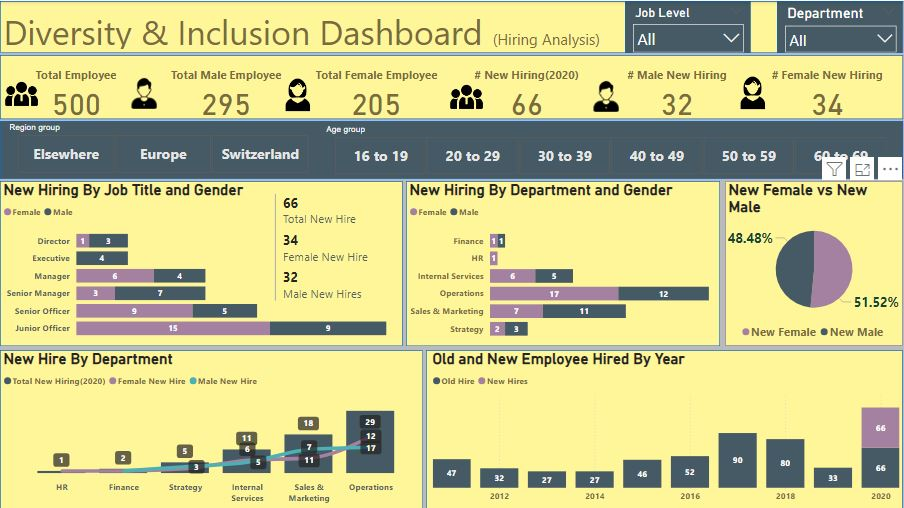

This screenshot's page, from the dashboard's own definition file:
{"tool":"powerbi","page":{"name":"Hiring","canvas":[1280,720],"ordinal":0},"visuals":[{"type":"shape","box":[1027.9,255.6,252.1,234.2],"z":0},{"type":"shape","box":[575.6,255.6,445.1,234.2],"z":1000},{"type":"shape","box":[604.2,495.2,675.8,225.3],"z":2000},{"type":"shape","box":[0,495.2,599.3,225.5],"z":3000},{"type":"shape","box":[0,255.4,570.8,234],"z":4000},{"type":"shape","box":[0,169.8,1280,82.2],"z":5000},{"type":"shape","box":[0,76.9,1280,91.2],"z":6000},{"type":"shape","box":[0,0,1280,73.3],"z":7000},{"type":"barChart","title":"New Hiring By Job Title and Gender","fields":{"Y":["All Measures.# New Hires"],"Category":["Pharma Group AG.Job Level after FY20 promotions"],"Series":["Pharma Group AG.Gender"]},"box":[0,255.4,570.8,234],"z":8000},{"type":"barChart","title":"New Hiring By Department and Gender","fields":{"Category":["Pharma Group AG.Department @01.07.2020"],"Series":["Pharma Group AG.Gender"],"Y":["All Measures.# New Hires"]},"box":[576,254.9,445,234.7],"z":9000},{"type":"lineStackedColumnComboChart","title":"Old and New Employee Hired By Year","fields":{"Category":["Pharma Group AG.Last hire date.Variation.Date Hierarchy.Year"],"Y":["All Measures.Total Employee","All Measures.# New Hires"]},"box":[607.8,495.2,672.2,225.3],"z":11000},{"type":"cardVisual","fields":{"Data":["All Measures.Total Employee","All Measures.Total Male Employee","All Measures.Total Female Employee","All Measures.# New Hires","All Measures.# Male New Hires","All Measures.# Female New Hires"]},"box":[0,77.1,1280,94.2],"z":12000},{"type":"lineStackedColumnComboChart","title":"New Hire By Department","fields":{"Y":["All Measures.# New Hires(20)"],"Category":["Pharma Group AG.Department @01.07.2020"],"Y2":["All Measures.# Female New Hires","All Measures.# Male New Hires"]},"box":[0,495.2,600.8,225.5],"z":13000},{"type":"textbox","box":[0,0,1280,73.3],"z":14000},{"type":"multiRowCard","fields":{"Values":["All Measures.# New Hires(20)","All Measures.# Female New Hires","All Measures.# Male New Hires"]},"box":[384.6,268.3,152.1,167.9],"z":15000},{"type":"slicer","fields":{"Values":["Pharma Group AG.Broad region group: nationality 1"]},"box":[0,167.4,460.9,82.8],"z":16000},{"type":"slicer","fields":{"Values":["Pharma Group AG.Age group"]},"box":[449.3,169.9,830.9,82],"z":18000},{"type":"pieChart","title":"New Female vs New Male","fields":{"Y":["All Measures.# Female New Hires","All Measures.# Male New Hires"]},"box":[1027.4,255.4,252.6,234],"z":19000},{"type":"image","box":[0,102.7,61.4,58.5],"z":20000},{"type":"image","box":[176.9,102.7,54.2,57.1],"z":21000},{"type":"image","box":[393.8,102.7,55.7,61.4],"z":22000},{"type":"image","box":[630.7,105.6,61.4,58.5],"z":23000},{"type":"image","box":[831.9,105.6,54.2,57.1],"z":24000},{"type":"image","box":[1038.8,99.9,55.7,61.4],"z":25000},{"type":"shape","box":[885.7,0,178.2,73.8],"z":26000},{"type":"shape","box":[1101.8,0,178.2,73.8],"z":27000},{"type":"slicer","fields":{"Values":["Pharma Group AG.Job Level after FY20 promotions"]},"box":[886.8,0,176.5,73.2],"z":28000},{"type":"slicer","fields":{"Values":["Pharma Group AG.Department @01.07.2020"]},"box":[1102.1,0,177.9,73.2],"z":28500}]}

Visuals, with their boxes in screenshot pixels (x1, y1, x2, y2), scaled from the page's 1280x720 canvas onto the 904x508 screenshot:
shape: locate(726, 180, 903, 346)
shape: locate(407, 180, 721, 346)
shape: locate(427, 349, 903, 507)
shape: locate(0, 349, 423, 507)
shape: locate(0, 180, 403, 345)
shape: locate(0, 120, 903, 178)
shape: locate(0, 54, 903, 119)
shape: locate(0, 0, 903, 52)
"New Hiring By Job Title and Gender" barChart: locate(0, 180, 403, 345)
"New Hiring By Department and Gender" barChart: locate(407, 180, 721, 345)
"Old and New Employee Hired By Year" lineStackedColumnComboChart: locate(429, 349, 903, 507)
cardVisual - All Measures.Total Employee x All Measures.Total Male Employee: locate(0, 54, 903, 121)
"New Hire By Department" lineStackedColumnComboChart: locate(0, 349, 424, 507)
textbox: locate(0, 0, 903, 52)
multiRowCard - All Measures.# New Hires(20) x All Measures.# Female New Hires: locate(272, 189, 379, 308)
slicer - Pharma Group AG.Broad region group: nationality 1: locate(0, 118, 326, 177)
slicer - Pharma Group AG.Age group: locate(317, 120, 903, 178)
"New Female vs New Male" pieChart: locate(726, 180, 903, 345)
image: locate(0, 72, 43, 114)
image: locate(125, 72, 163, 113)
image: locate(278, 72, 317, 116)
image: locate(445, 75, 489, 116)
image: locate(588, 75, 626, 115)
image: locate(734, 70, 773, 114)
shape: locate(626, 0, 751, 52)
shape: locate(778, 0, 903, 52)
slicer - Pharma Group AG.Job Level after FY20 promotions: locate(626, 0, 751, 52)
slicer - Pharma Group AG.Department @01.07.2020: locate(778, 0, 903, 52)
